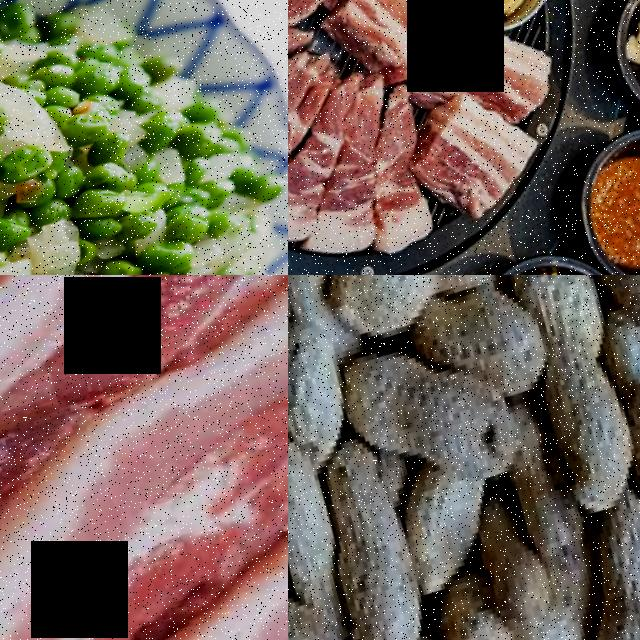peanuts: (333, 306, 545, 509), (487, 275, 640, 513), (292, 433, 467, 640), (315, 275, 528, 353), (288, 308, 377, 461), (565, 531, 640, 640), (288, 575, 413, 640), (607, 378, 640, 615)
peas: (0, 135, 173, 267), (0, 111, 26, 256)
pork belly: (0, 275, 288, 640), (59, 399, 288, 640), (288, 2, 402, 241), (406, 74, 569, 228), (0, 275, 288, 360), (404, 0, 575, 141), (314, 0, 475, 93)
